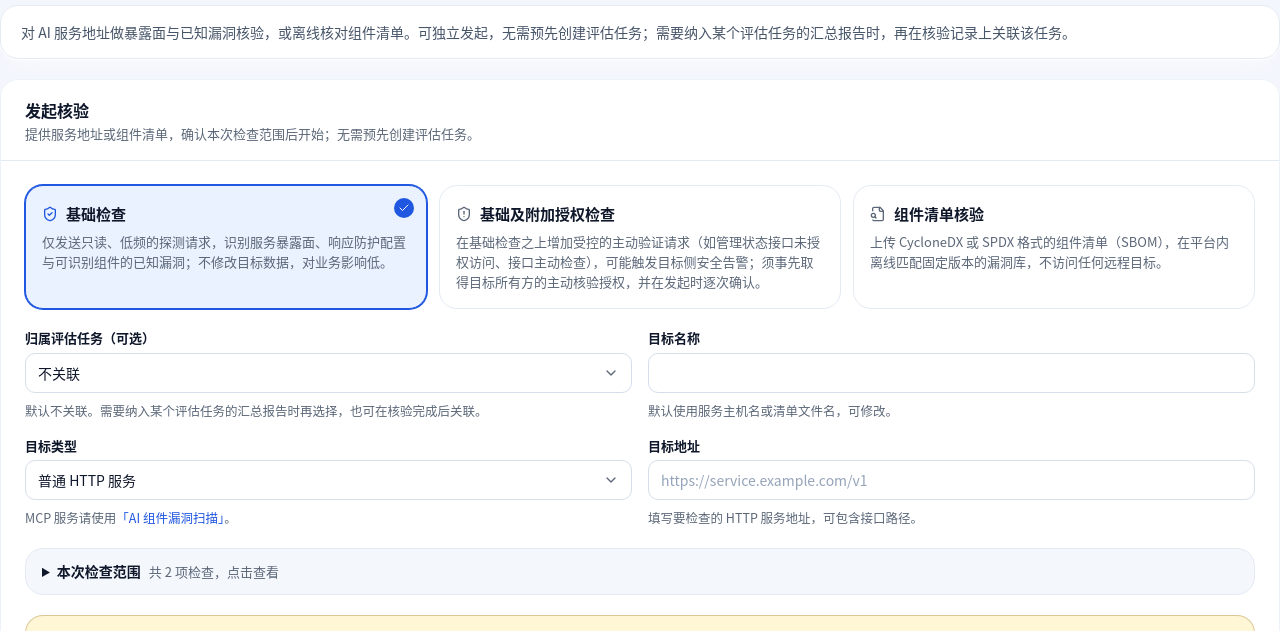
Test: ServiceAssurancePage › 模式未就绪时显示真实限制并禁止发起
Click the button "基础及附加授权检查". click: (640, 247)
box: [439,185,841,309]
(page scrolled)
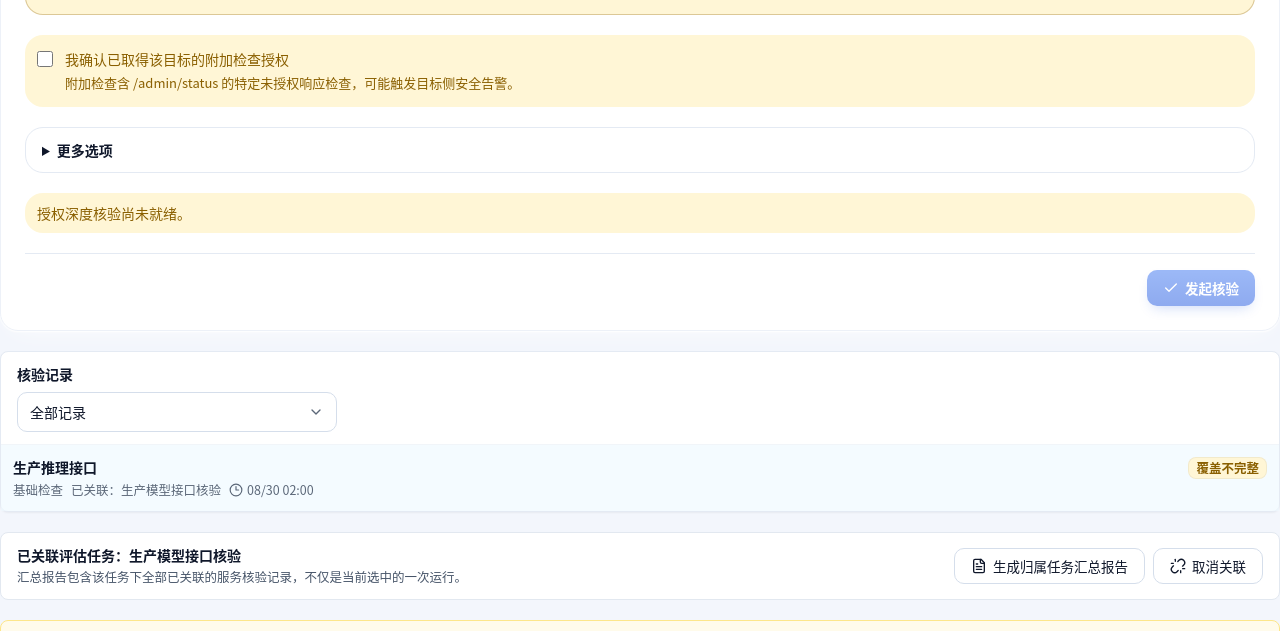
Check: the button "发起核验" is disabled, box [1147,270,1255,306]
Check: the text "授权深度核验尚未就绪。" is shown, box [25,193,1255,233]
